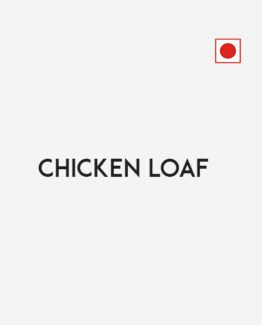nonveg_red: (213, 36, 244, 66)
